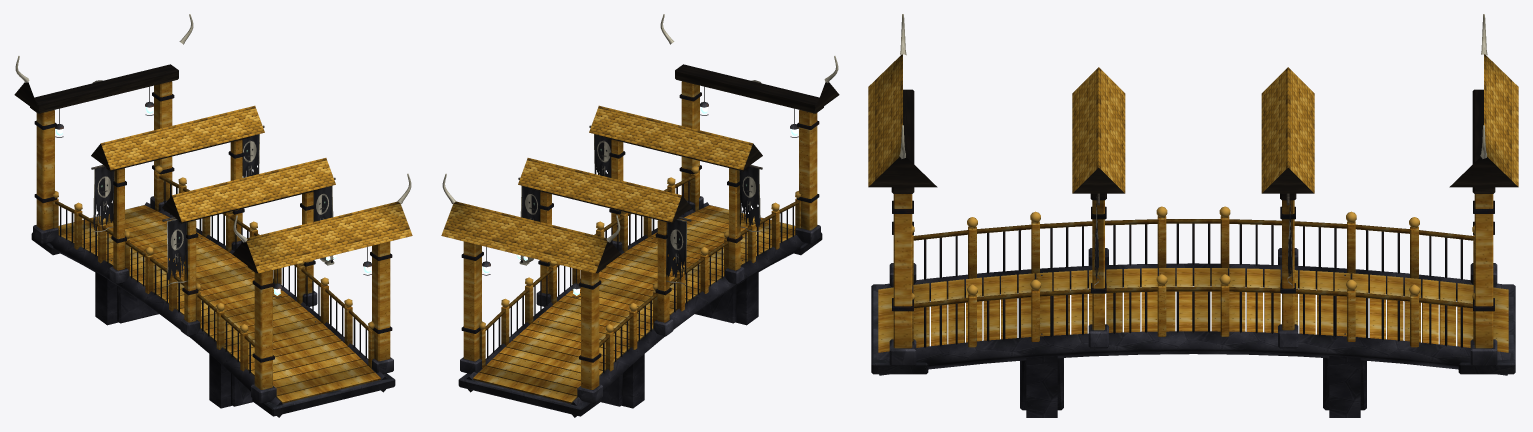
Rendered from helheim_gjallarbru.glb.
3 renders of one model, left to right at view 1: azimuth 30°, elevation 25°; view 2: azimuth 150°, elevation 25°; view 3: azimuth 270°, elevation 25°, orthographic. The views are drawn at different scales.
Visible parts, largest first — view 1: helheim_gjallarbru; view 2: helheim_gjallarbru; view 3: helheim_gjallarbru.
Part boxes in pixels (<box>): helheim_gjallarbru: <box>14,14,412,417</box>; helheim_gjallarbru: <box>441,14,839,417</box>; helheim_gjallarbru: <box>868,14,1518,417</box>.
Bounding box in the file's own units: 4.32 × 5.46 × 10.3.
10 materials, 8 textured.
